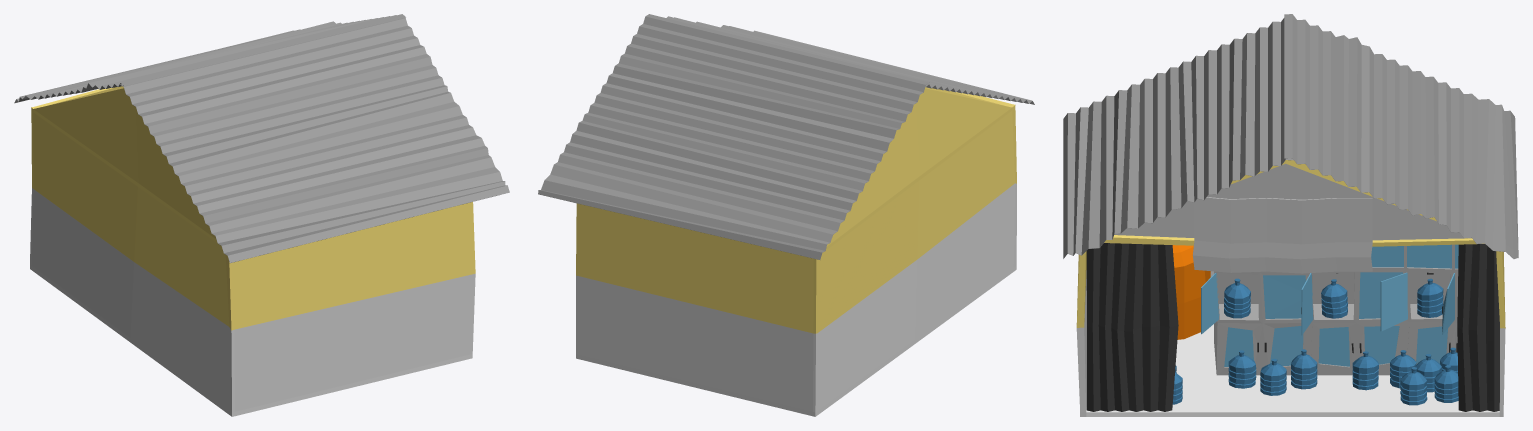
File: isi ulang galon.fbx
3 renders of one model, left to right at view 1: azimuth 30°, elevation 25°; view 2: azimuth 150°, elevation 25°; view 3: azimuth 270°, elevation 25°, orthographic. The views are drawn at different scales.
Parts seen in each view (by area): view 1: Cube, Cube.004; view 2: Cube, Cube.004; view 3: Cube.004, Cube.009, Cube, Cube.003, Cube.001, Cylinder.015, Cylinder.
Part boxes in pixels (bbox=[...]): Cube: bbox=[30, 86, 475, 416]; Cube.004: bbox=[14, 14, 509, 263]; Cube: bbox=[576, 87, 1016, 416]; Cube.004: bbox=[538, 14, 1034, 259]; Cube.004: bbox=[1063, 14, 1518, 258]; Cube.009: bbox=[1201, 244, 1458, 375]; Cube: bbox=[1076, 160, 1505, 416]; Cube.003: bbox=[1086, 243, 1499, 411]; Cube.001: bbox=[1192, 197, 1372, 273]; Cylinder.015: bbox=[1172, 278, 1458, 405]; Cylinder: bbox=[1172, 245, 1210, 339].
Bounding box in the file's own units: 578 × 511 × 767.
